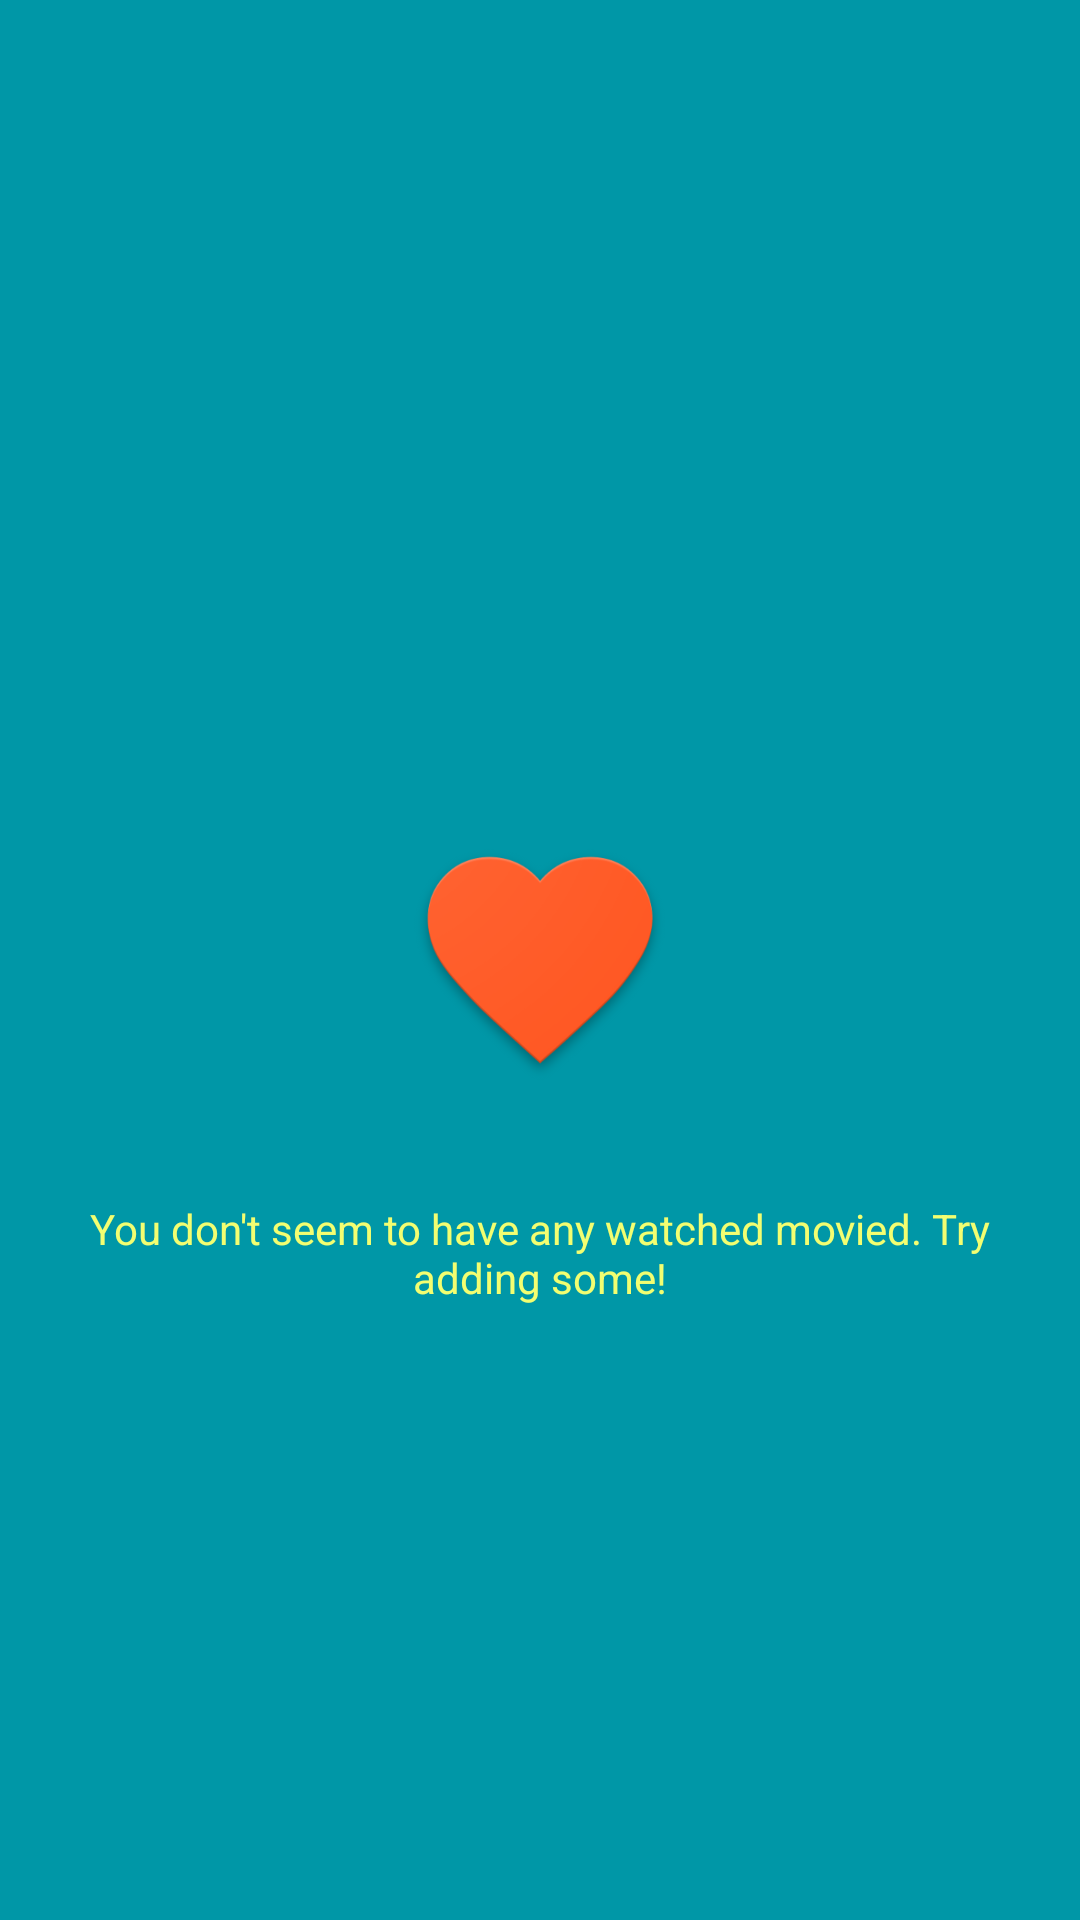

Screen size 1080 × 1920. Icon name, then its box in pixels as (x1, y1, x2, y2):
heart: (427, 856, 653, 1065)
